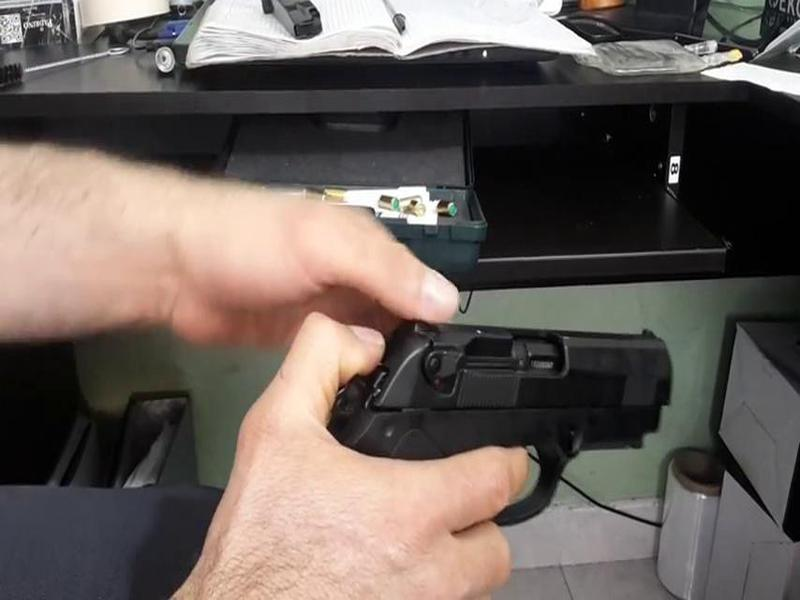Pistola: (306, 295, 683, 538)
